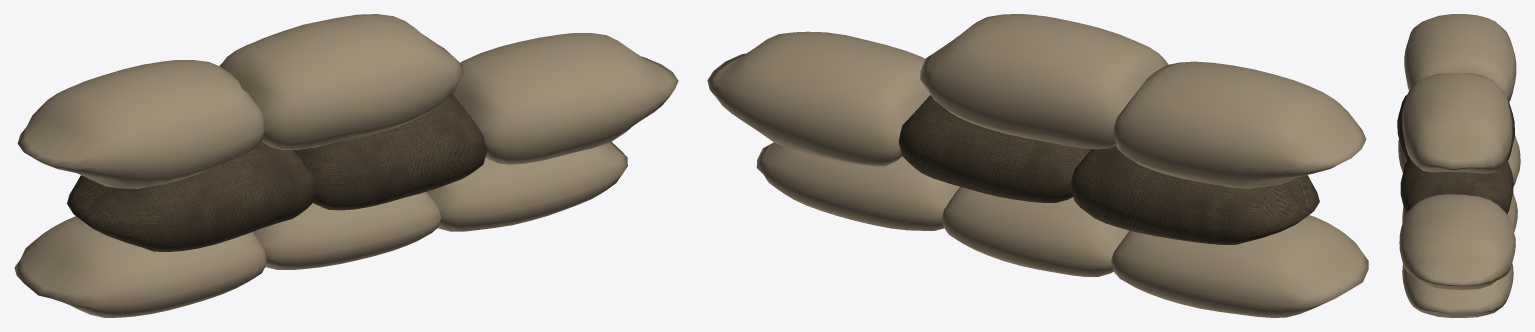
Rendered from S7U_SandbagsS_3L_B.fbx.
3 views of the same model, side by side, from view 1: azimuth 30°, elevation 25°; view 2: azimuth 150°, elevation 25°; view 3: azimuth 270°, elevation 25° (orthographic). The views are drawn at different scales.
Parts seen in each view (by area): view 1: S7U_SandbagsS_3L_B; view 2: S7U_SandbagsS_3L_B; view 3: S7U_SandbagsS_3L_B.
Part boxes in pixels (left/top/right/bottom): S7U_SandbagsS_3L_B: left=14, top=14, right=678, bottom=317; S7U_SandbagsS_3L_B: left=707, top=14, right=1368, bottom=317; S7U_SandbagsS_3L_B: left=1397, top=14, right=1520, bottom=317.
Size of the model in its own units: 1.26 by 0.4112 by 0.305.
